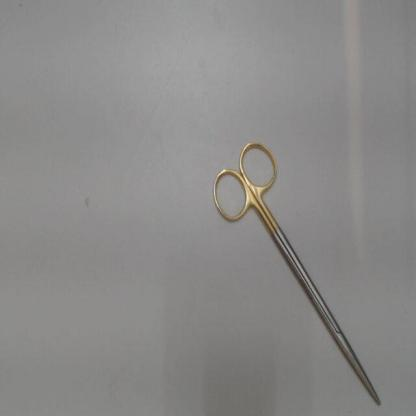7 Metzenbaum Scissors: (212, 140, 382, 405)
